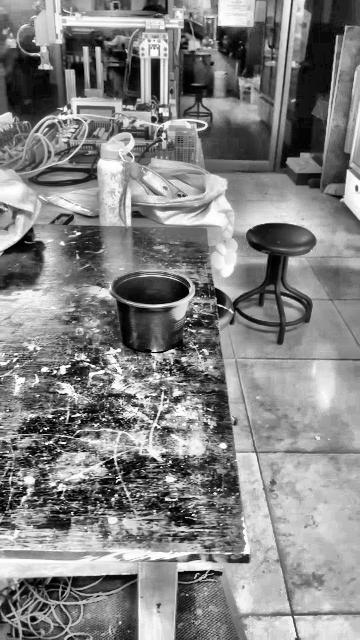pot: (109, 271, 192, 352)
